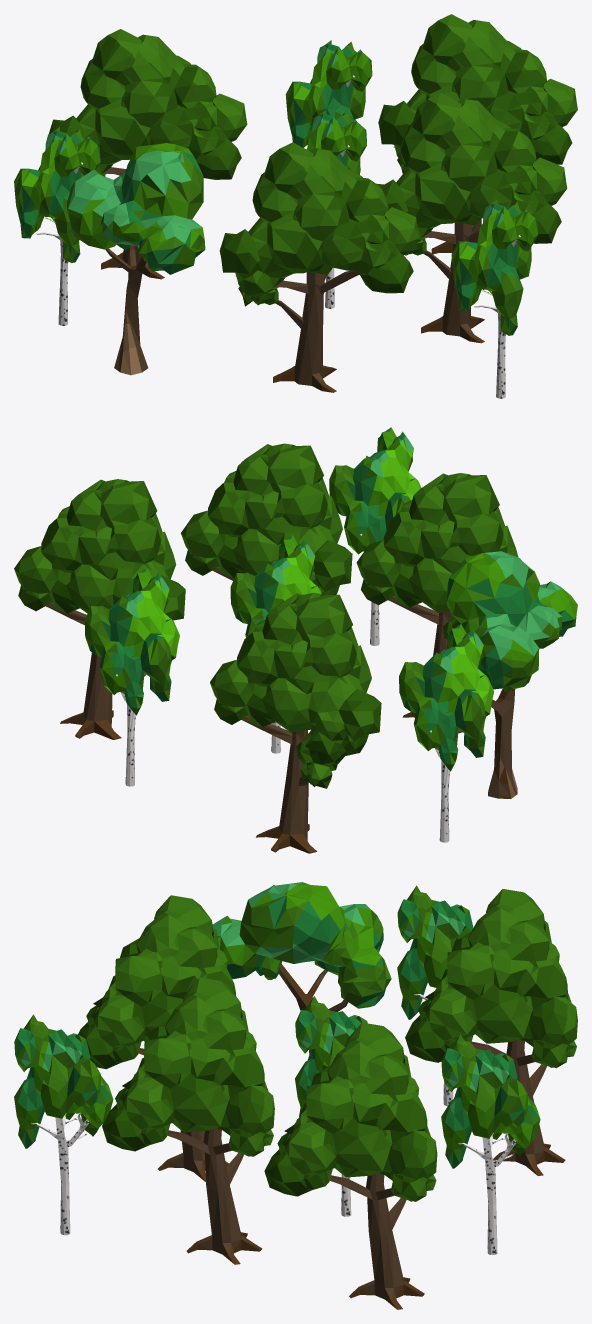
The model's file is tree3.fbx.
3 views of the same model, one above another, from view 1: azimuth 30°, elevation 25°; view 2: azimuth 150°, elevation 25°; view 3: azimuth 270°, elevation 25° (orthographic). The views are drawn at different scales.
Parts seen in each view (by area): view 1: _5_tree4; view 2: _5_tree4; view 3: _5_tree4.
Boxes of the visible parts, box(x1,y1,x2,y2) form: _5_tree4: box(14, 14, 577, 398); _5_tree4: box(14, 427, 577, 853); _5_tree4: box(14, 882, 577, 1309).
Size of the model in its own units: 741 by 356 by 711.
Materials: 3 (3 with a texture image).
